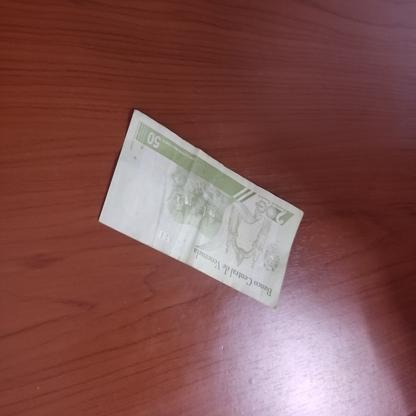vef_back: (98, 110, 304, 310)
